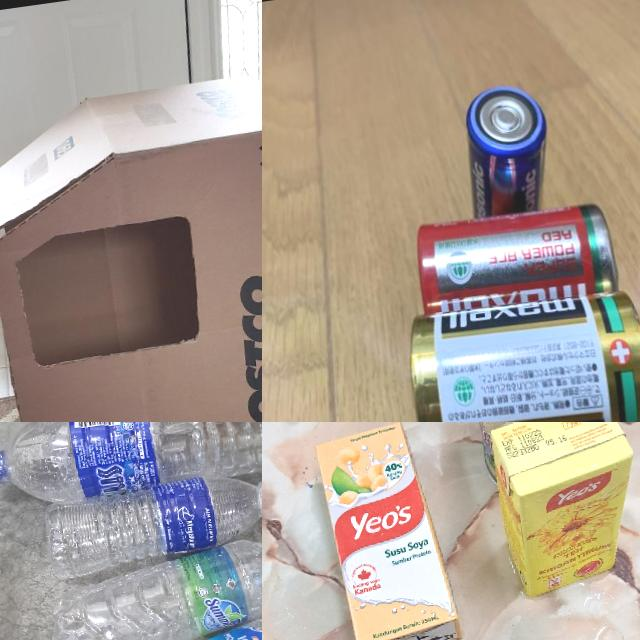bateria: (397, 282, 640, 422), (406, 196, 626, 324), (448, 84, 562, 225)
caixinha: (308, 422, 465, 640), (478, 422, 640, 602)
garrafa plástica: (40, 468, 262, 581), (48, 531, 262, 640), (0, 422, 262, 511)
lata: (466, 422, 624, 480)
papelão: (0, 61, 262, 422)
